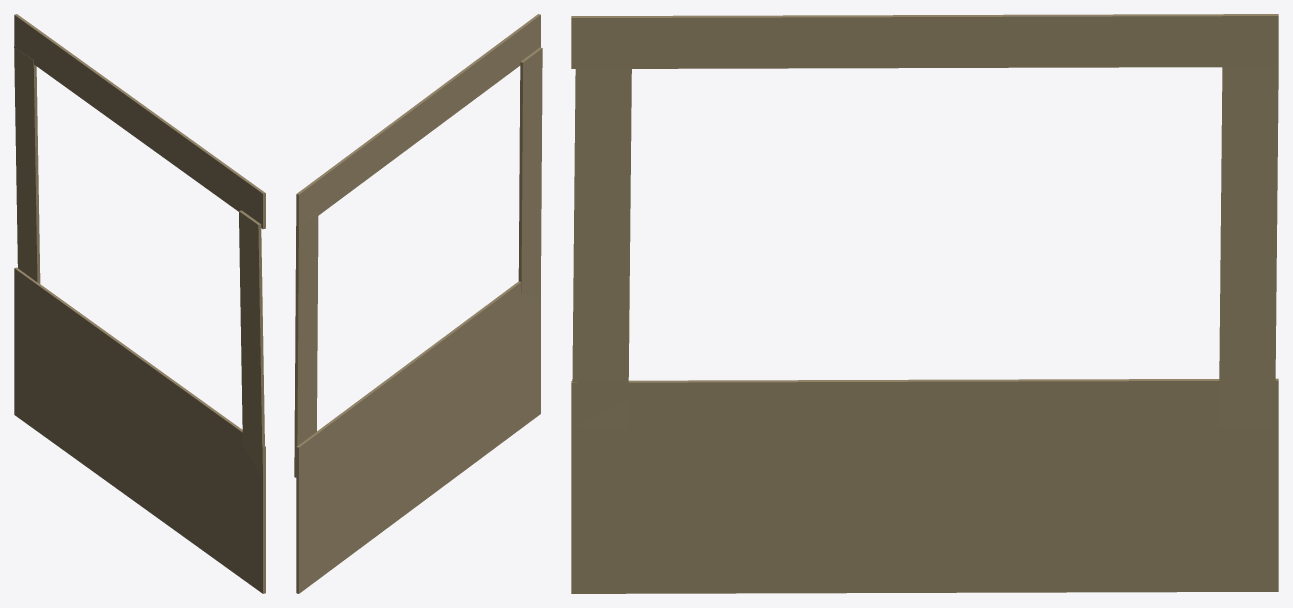
Rendered from desayunador.obj.
3 renders of one model, left to right at view 1: azimuth 30°, elevation 25°; view 2: azimuth 150°, elevation 25°; view 3: azimuth 270°, elevation 25°, orthographic. The views are drawn at different scales.
Parts seen in each view (by area): view 1: pCube15 polySurface17, pCube15 polySurface18, pCube15 polySurface20, polySurface19 pCube15; view 2: pCube15 polySurface17, pCube15 polySurface18, pCube15 polySurface20, polySurface19 pCube15; view 3: pCube15 polySurface17, pCube15 polySurface18, polySurface19 pCube15, pCube15 polySurface20.
Part boxes in pixels (x1=…): pCube15 polySurface17: x1=14, y1=267, x2=265, y2=593; pCube15 polySurface18: x1=14, y1=14, x2=265, y2=229; pCube15 polySurface20: x1=239, y1=210, x2=264, y2=477; polySurface19 pCube15: x1=14, y1=46, x2=40, y2=283; pCube15 polySurface17: x1=296, y1=281, x2=540, y2=593; pCube15 polySurface18: x1=296, y1=14, x2=540, y2=229; pCube15 polySurface20: x1=518, y1=47, x2=542, y2=298; polySurface19 pCube15: x1=294, y1=212, x2=318, y2=477; pCube15 polySurface17: x1=571, y1=378, x2=1278, y2=593; pCube15 polySurface18: x1=571, y1=14, x2=1278, y2=68; polySurface19 pCube15: x1=1219, y1=62, x2=1278, y2=428; pCube15 polySurface20: x1=572, y1=69, x2=631, y2=428.
Size of the model in its own units: 0.2012 by 13.05 by 14.54.
Materials: 1 (1 with a texture image).
